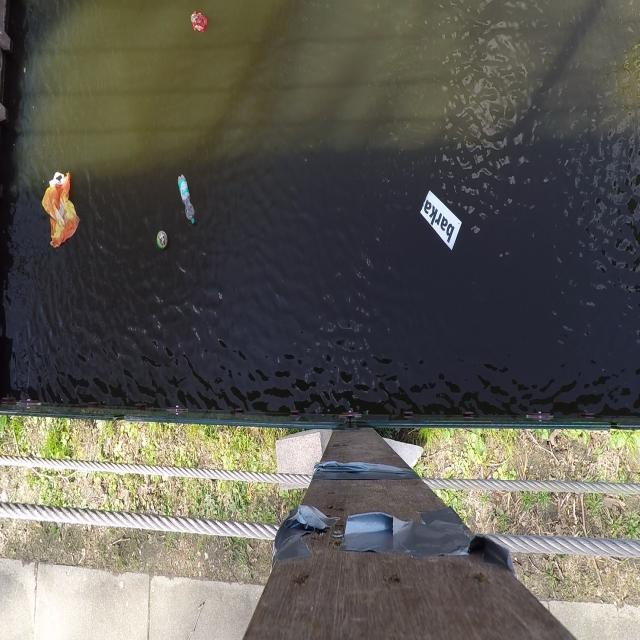Autre plastique: (152, 227, 171, 253)
Bouteille plastique: (174, 170, 198, 228)
Sac plastique: (36, 163, 86, 256), (187, 6, 210, 37)
